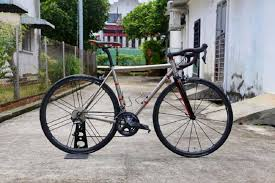bicycle: (33, 35, 237, 166)
